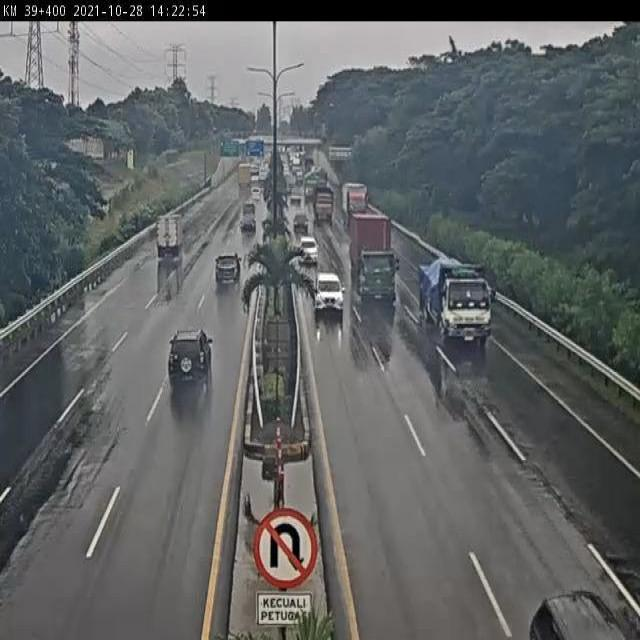big truck: (419, 252, 497, 345), (349, 210, 399, 302), (315, 185, 335, 224)
car: (169, 332, 213, 388), (158, 215, 184, 257), (315, 274, 344, 310), (216, 252, 241, 284), (298, 236, 319, 265)
